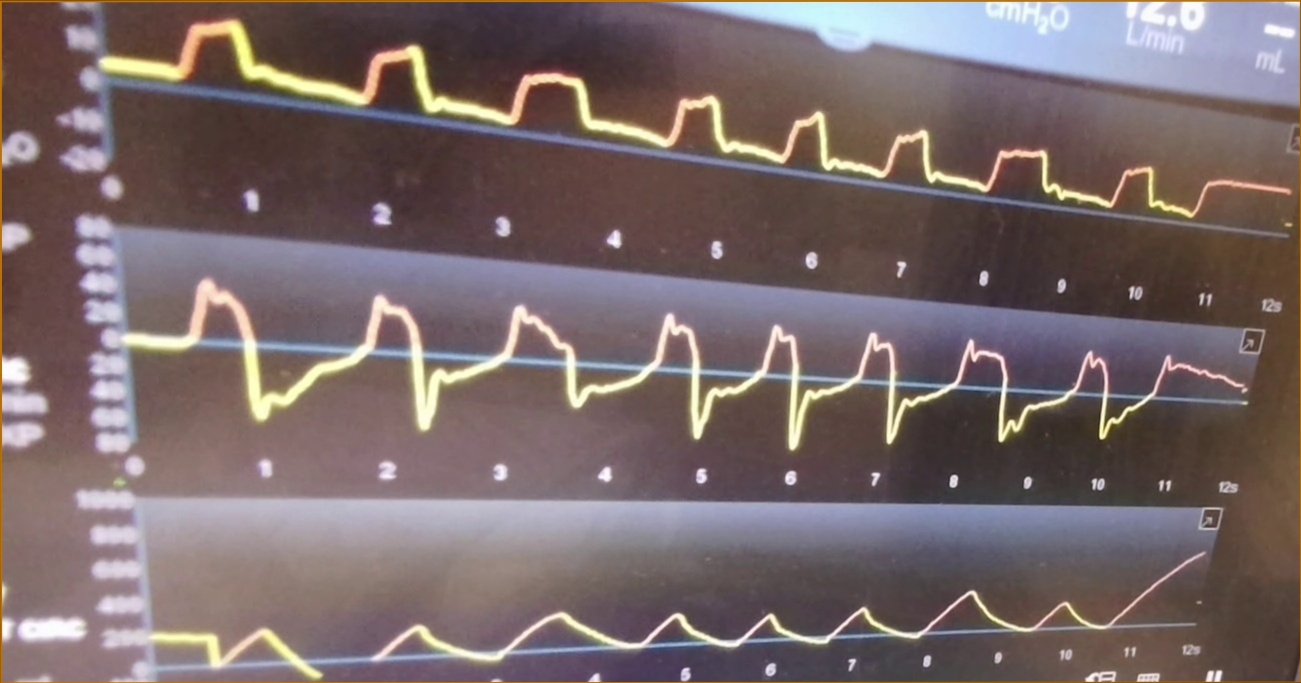Accumulation Flow: (136, 276, 1240, 453)
Volume: (157, 549, 1203, 683)
